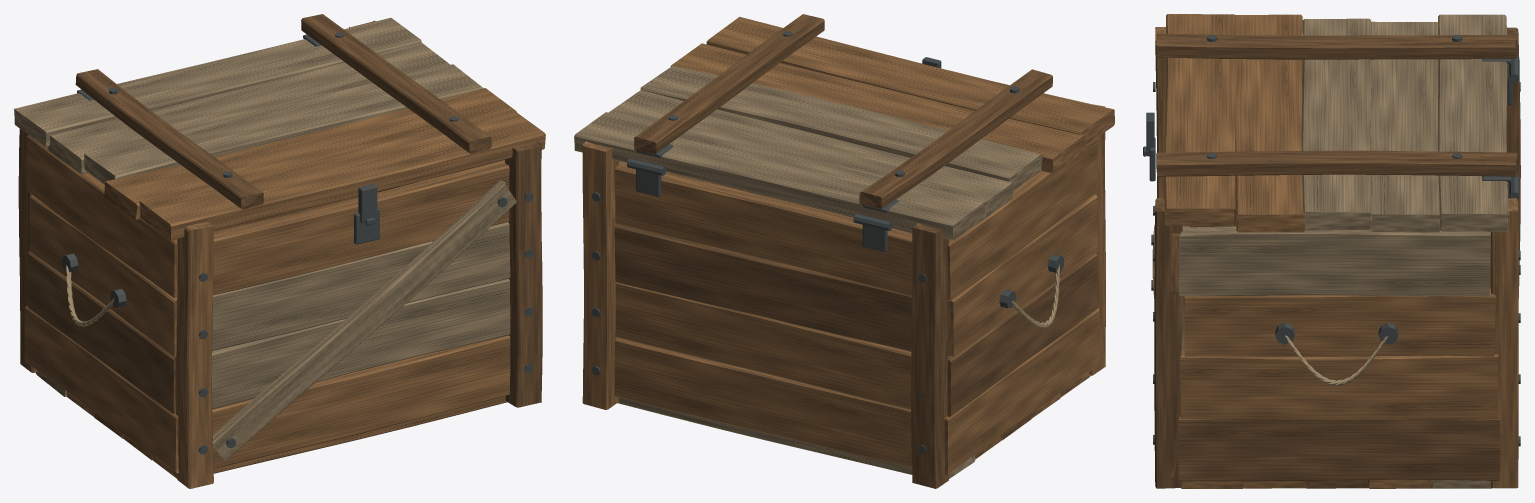
The model's file is wooden-crate-before.glb.
The picture shows the model from 3 angles, left to right: view 1: azimuth 30°, elevation 25°; view 2: azimuth 150°, elevation 25°; view 3: azimuth 270°, elevation 25°; orthographic projection. The views are drawn at different scales.
Visible parts, largest first — view 1: GEO-CrateBody-Wood-Warm, GEO-CrateBody-Wood-Grey, GEO-CrateLid-Wood-Grey, GEO-CrateLid-Wood-Warm, GEO-CrateBody-Wood-Dark, GEO-CrateLid-Wood-Dark, GEO-CrateBody-AgedIron, GEO-CrateLid-AgedIron; view 2: GEO-CrateBody-Wood-Warm, GEO-CrateLid-Wood-Grey, GEO-CrateBody-Wood-Dark, GEO-CrateLid-Wood-Warm, GEO-CrateLid-Wood-Dark, GEO-CrateBody-AgedIron, GEO-CrateBody-Wood-Grey, GEO-CrateLid-AgedIron; view 3: GEO-CrateBody-Wood-Warm, GEO-CrateLid-Wood-Grey, GEO-CrateBody-Wood-Dark, GEO-CrateLid-Wood-Warm, GEO-CrateBody-Wood-Grey, GEO-CrateLid-Wood-Dark, GEO-CrateBody-AgedIron, GEO-CrateLid-AgedIron, GEO-CrateBody-Hemp.
Boxes of the visible parts, left/top/right/bottom form: GEO-CrateBody-Wood-Warm: left=24, top=20, right=510, bottom=488; GEO-CrateBody-Wood-Grey: left=35, top=180, right=517, bottom=460; GEO-CrateLid-Wood-Grey: left=14, top=17, right=483, bottom=184; GEO-CrateLid-Wood-Warm: left=104, top=88, right=545, bottom=240; GEO-CrateBody-Wood-Dark: left=18, top=128, right=542, bottom=438; GEO-CrateLid-Wood-Dark: left=75, top=14, right=491, bottom=209; GEO-CrateBody-AgedIron: left=61, top=192, right=533, bottom=454; GEO-CrateLid-AgedIron: left=77, top=32, right=458, bottom=223; GEO-CrateBody-Wood-Warm: left=582, top=104, right=1105, bottom=475; GEO-CrateLid-Wood-Grey: left=574, top=65, right=1042, bottom=240; GEO-CrateBody-Wood-Dark: left=614, top=223, right=1097, bottom=488; GEO-CrateLid-Wood-Warm: left=670, top=16, right=1114, bottom=174; GEO-CrateLid-Wood-Dark: left=633, top=14, right=1052, bottom=209; GEO-CrateBody-AgedIron: left=591, top=158, right=1064, bottom=453; GEO-CrateBody-Wood-Grey: left=617, top=161, right=975, bottom=478; GEO-CrateLid-AgedIron: left=636, top=31, right=1019, bottom=212; GEO-CrateBody-Wood-Warm: left=1155, top=27, right=1518, bottom=488; GEO-CrateLid-Wood-Grey: left=1301, top=14, right=1508, bottom=232; GEO-CrateBody-Wood-Dark: left=1154, top=27, right=1520, bottom=488; GEO-CrateLid-Wood-Warm: left=1164, top=14, right=1305, bottom=232; GEO-CrateBody-Wood-Grey: left=1152, top=225, right=1491, bottom=488; GEO-CrateLid-Wood-Dark: left=1156, top=33, right=1517, bottom=176; GEO-CrateBody-AgedIron: left=1143, top=57, right=1520, bottom=446; GEO-CrateLid-AgedIron: left=1146, top=35, right=1511, bottom=181; GEO-CrateBody-Hemp: left=1285, top=335, right=1388, bottom=385.
Size of the model in its own units: 1.18 by 0.7825 by 0.8776.
5 materials, 3 textured.
